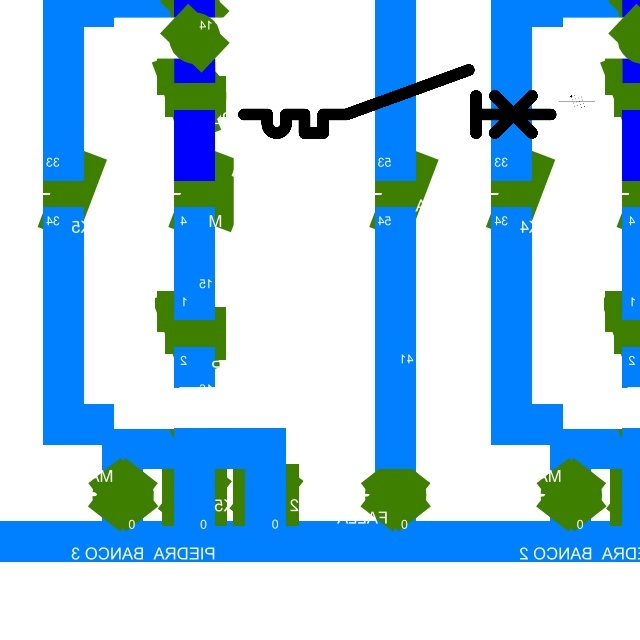interruptor_termomagnetico: (236, 62, 558, 141)
